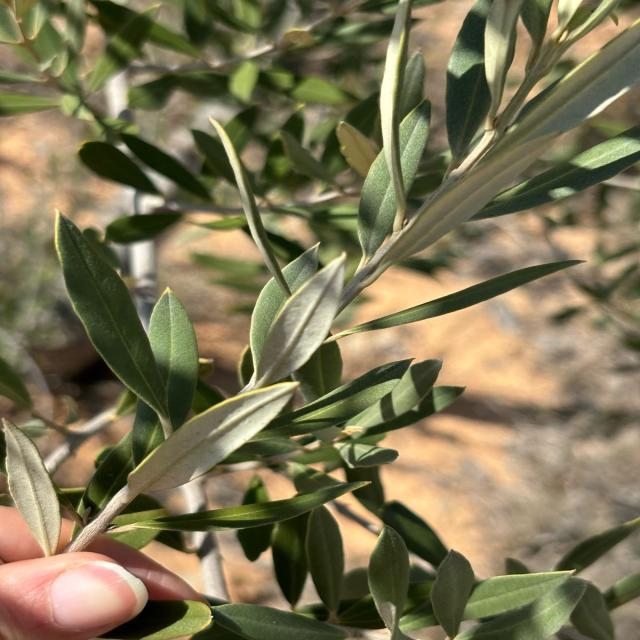Healthy: (55, 214, 171, 436), (124, 382, 298, 500), (331, 260, 585, 340), (248, 252, 345, 388), (127, 481, 372, 531), (2, 419, 62, 556)
